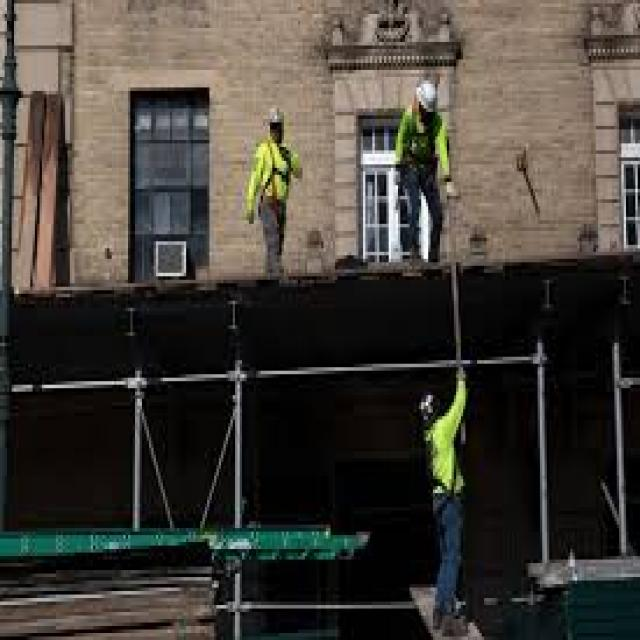Reflective-Jacket: (410, 388, 480, 511), (391, 108, 456, 196), (242, 136, 305, 224)
Safety-Helmet: (410, 74, 444, 115), (258, 102, 291, 136)
